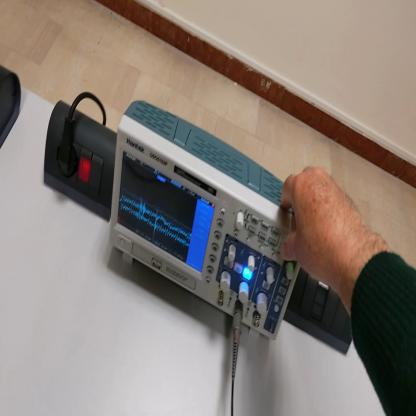hand: (279, 165, 365, 294)
oscilloscope: (109, 103, 300, 344)
socket: (44, 103, 117, 222), (2, 67, 23, 157)
